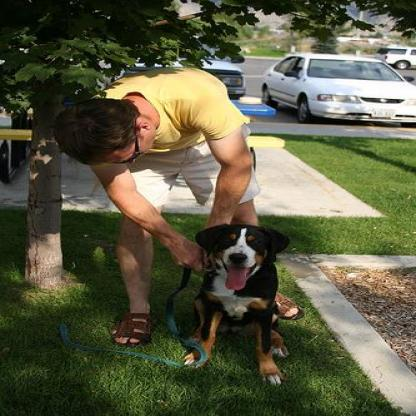Greater_Swiss_Mountain_dog: (181, 221, 292, 384)
